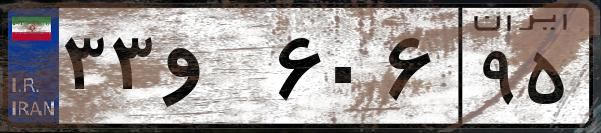0: (330, 28, 385, 110)
3: (57, 26, 110, 100), (110, 28, 158, 98)
5: (525, 38, 570, 115)
6: (270, 28, 330, 110), (385, 28, 445, 110)
9: (475, 38, 525, 113)
و: (158, 20, 270, 120)
